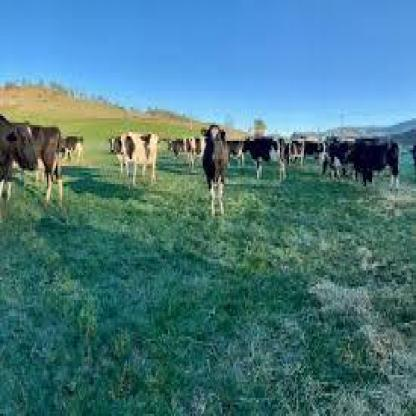cow: (0, 112, 38, 199), (202, 124, 229, 215), (343, 146, 401, 188), (240, 138, 283, 185), (120, 132, 157, 184), (63, 138, 82, 160)
